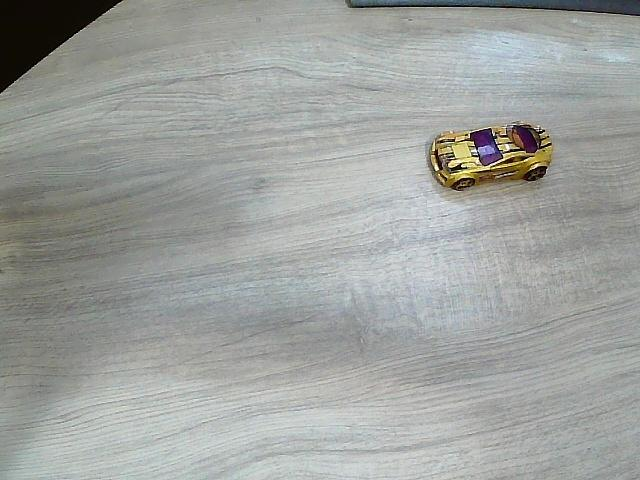Carro: (427, 124, 554, 192)
